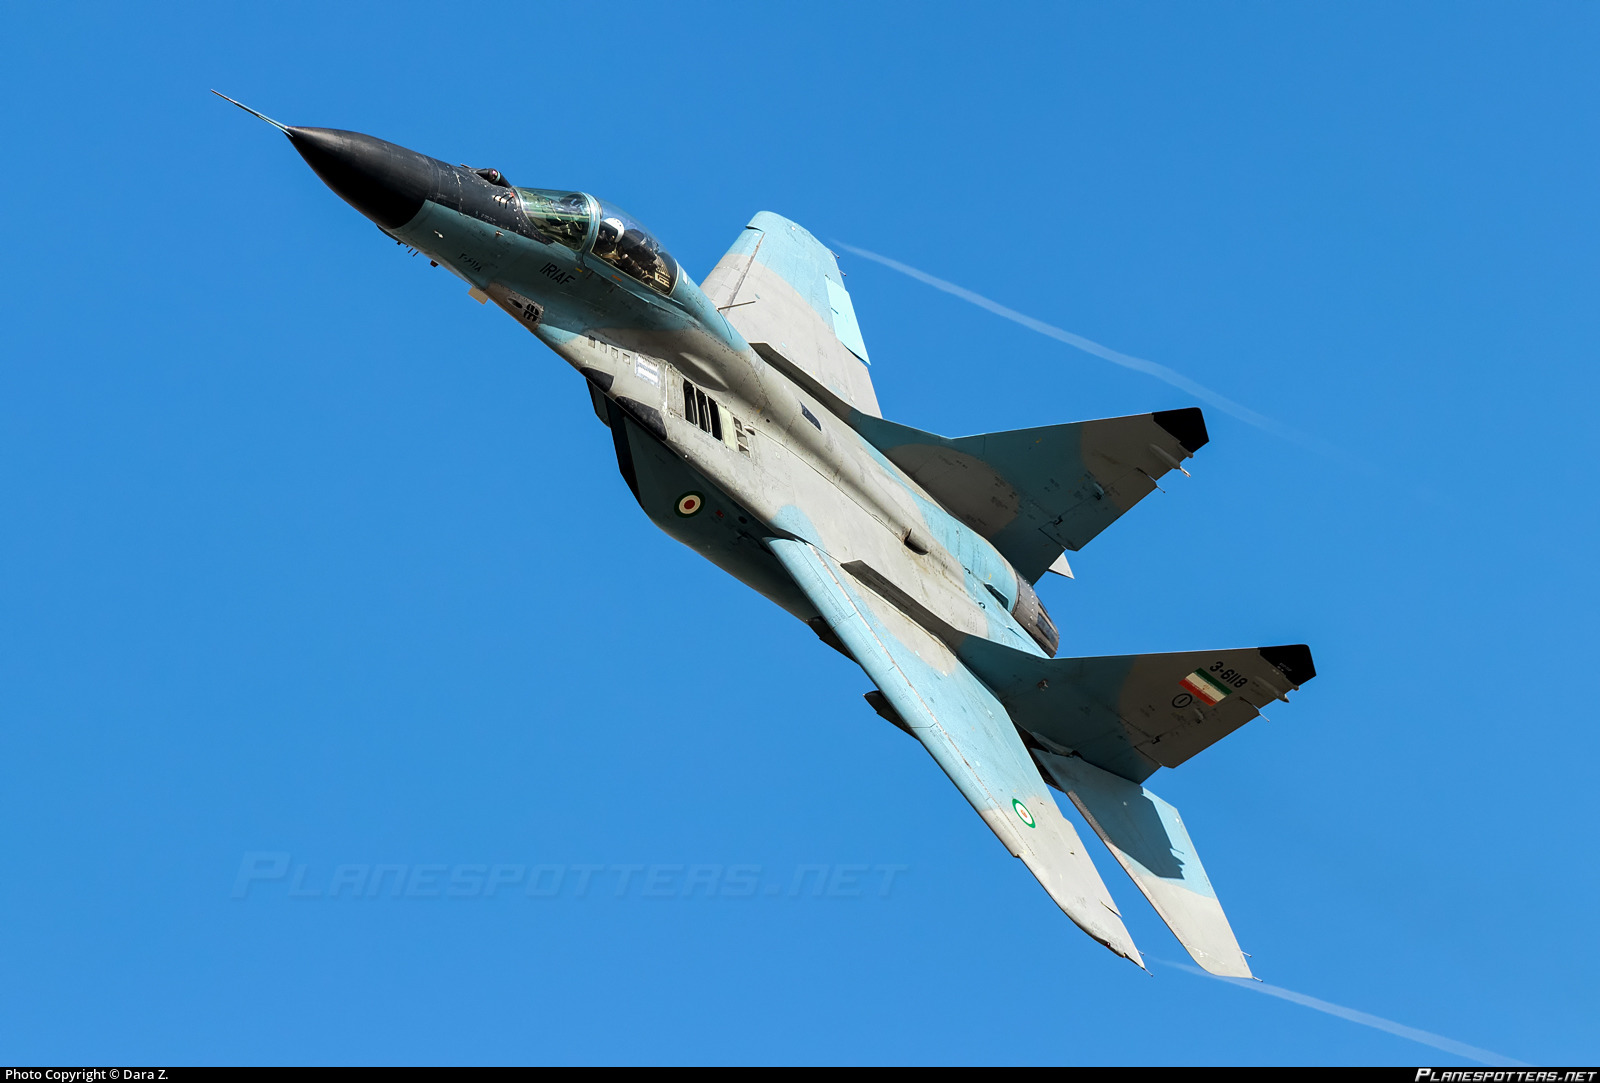Iran: (1184, 665, 1231, 705)
Mig-29: (231, 54, 1316, 985)
